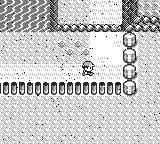captura: (1, 0, 50, 32)
main: (82, 61, 95, 76)
mo: (50, 0, 58, 31)
no-caminable: (0, 82, 122, 96), (122, 0, 160, 31), (122, 32, 137, 96)
salto: (58, 24, 122, 32)
